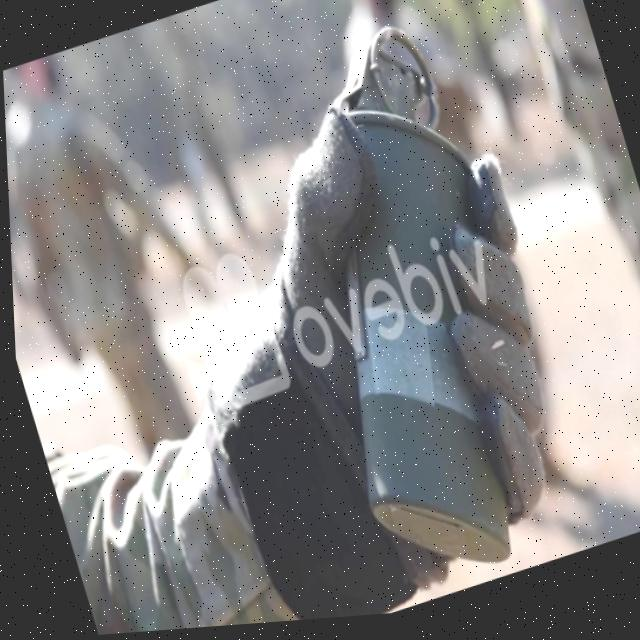grenade: (217, 0, 608, 611)
